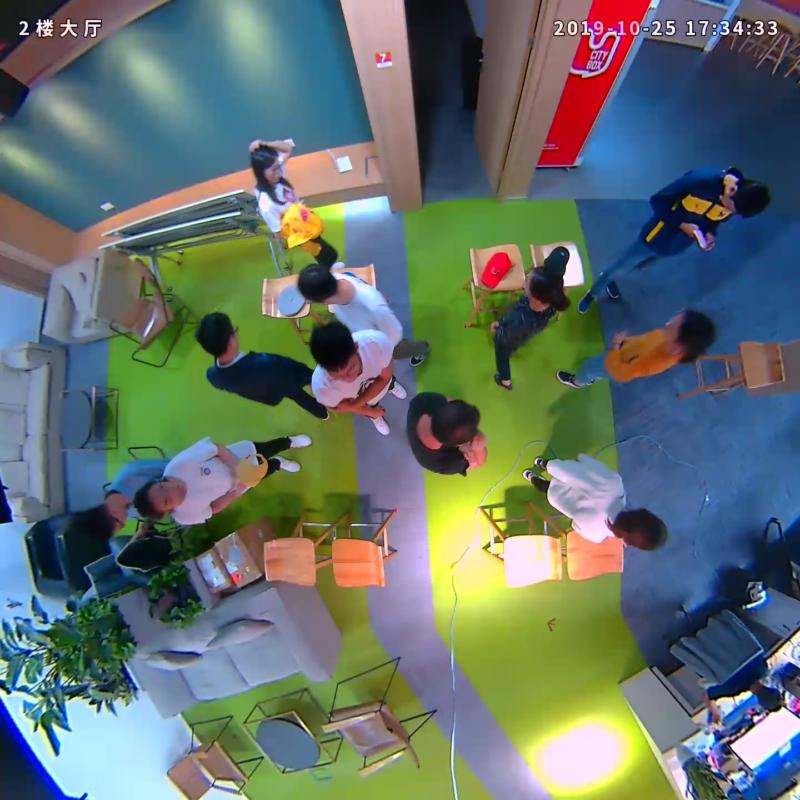head: (309, 322, 361, 385), (428, 399, 480, 448), (664, 309, 715, 358), (523, 267, 571, 311), (617, 507, 666, 550), (196, 311, 240, 357), (720, 178, 770, 218), (133, 479, 182, 519), (296, 264, 340, 306), (82, 499, 128, 539), (249, 144, 284, 185)
